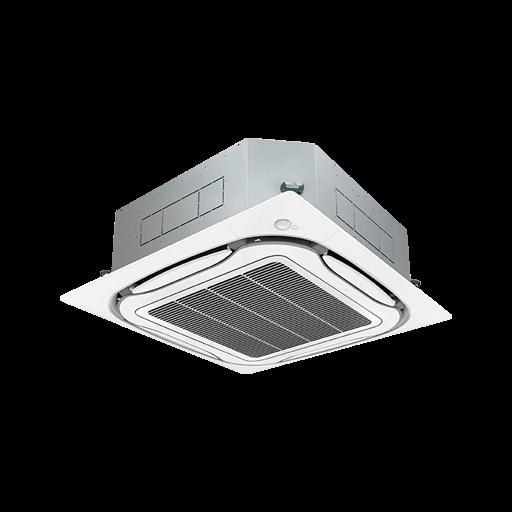4-way-ac: (61, 191, 448, 375)
